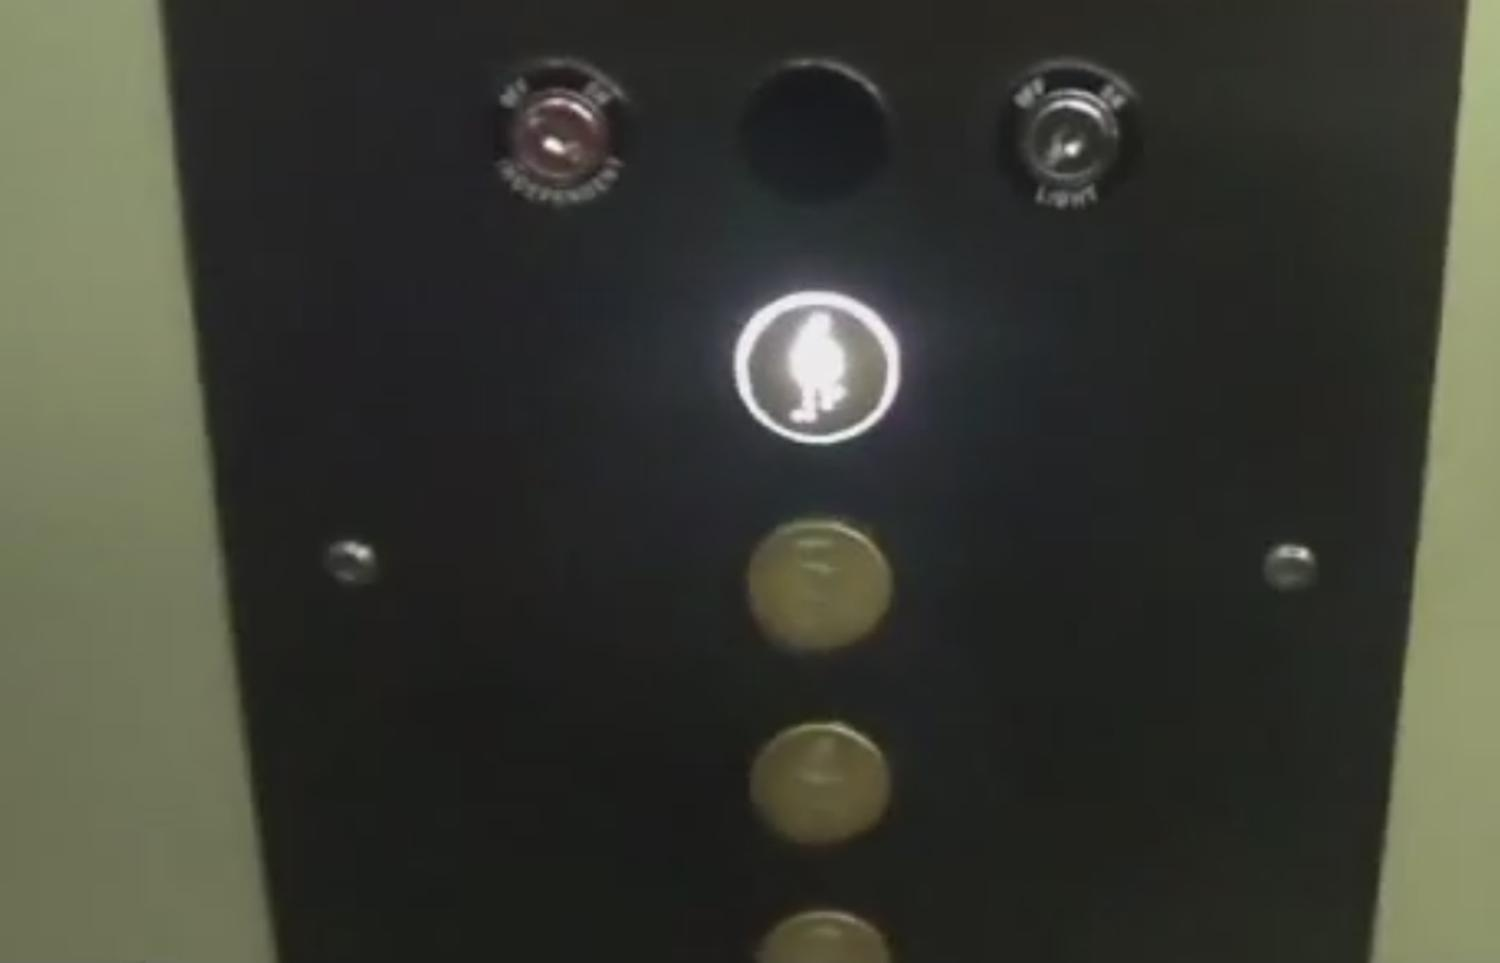4: (745, 724, 892, 849)
5: (743, 514, 893, 655)
blur: (736, 284, 903, 445)
empty: (738, 50, 892, 208)
keyhole: (993, 56, 1140, 212), (482, 55, 630, 207)
